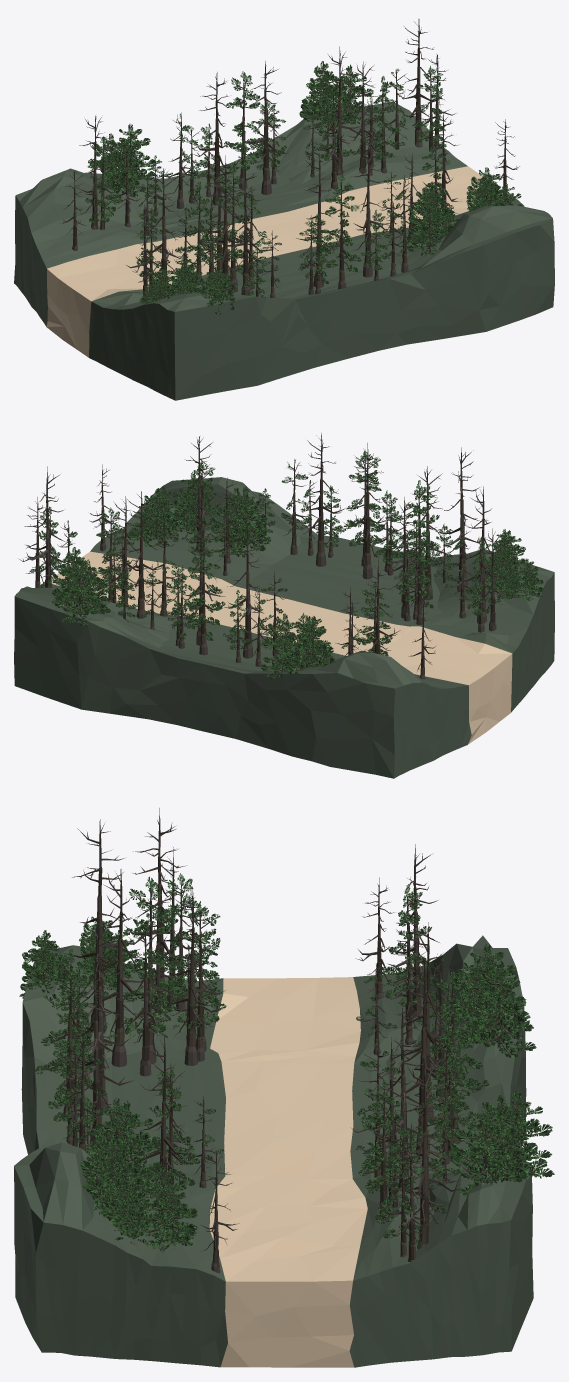
File: DEMOscene.fbx
3 renders of one model, top to bottom at view 1: azimuth 30°, elevation 25°; view 2: azimuth 150°, elevation 25°; view 3: azimuth 270°, elevation 25°, orthographic. The views are drawn at different scales.
Visible parts, largest first — view 1: DEMOscene; view 2: DEMOscene; view 3: DEMOscene.
Part boxes in pixels (x1,y1,x2,y2): DEMOscene: (14,19,554,400); DEMOscene: (14,433,554,778); DEMOscene: (14,808,554,1367).
Bounding box in the file's own units: 98.42 × 47.1 × 72.9.
